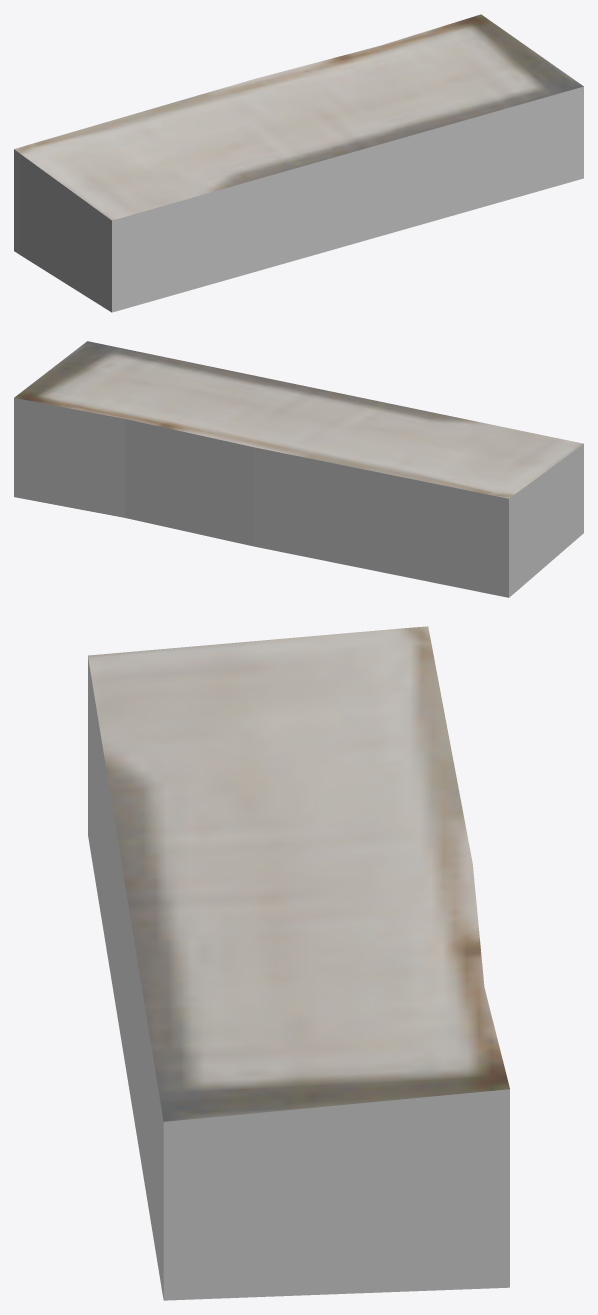
File: DEBW_0010007Txiu.gltf
3 renders of one model, top to bottom at view 1: azimuth 30°, elevation 25°; view 2: azimuth 150°, elevation 25°; view 3: azimuth 270°, elevation 25°, orthographic. The views are drawn at different scales.
Visible parts, largest first — view 1: Z_UP; view 2: Z_UP; view 3: Z_UP.
Part boxes in pixels (<box>): Z_UP: <box>14,14,583,312</box>; Z_UP: <box>14,341,583,597</box>; Z_UP: <box>88,626,509,1300</box>.
Bounding box in the file's own units: 18.43 × 3.59 × 6.91.
Materials: 2 (1 with a texture image).
